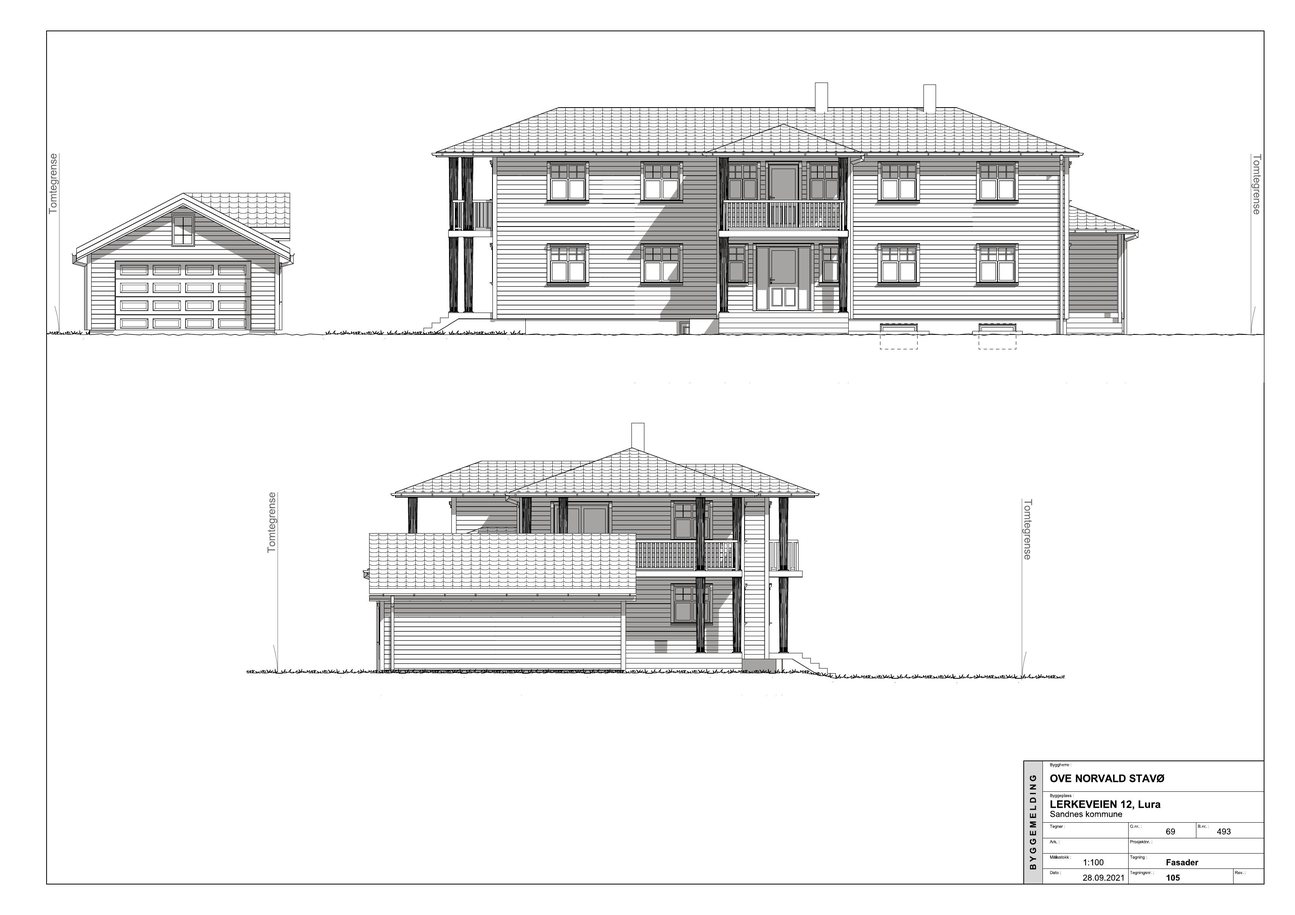fasade: (419, 80, 1142, 352), (361, 421, 839, 685), (70, 191, 296, 340)
